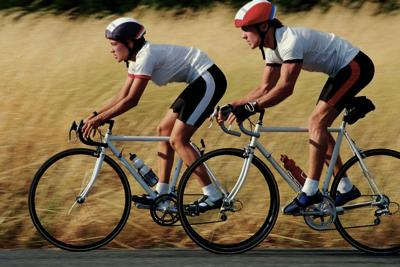With Helmet: (224, 0, 292, 56), (100, 15, 151, 68)
